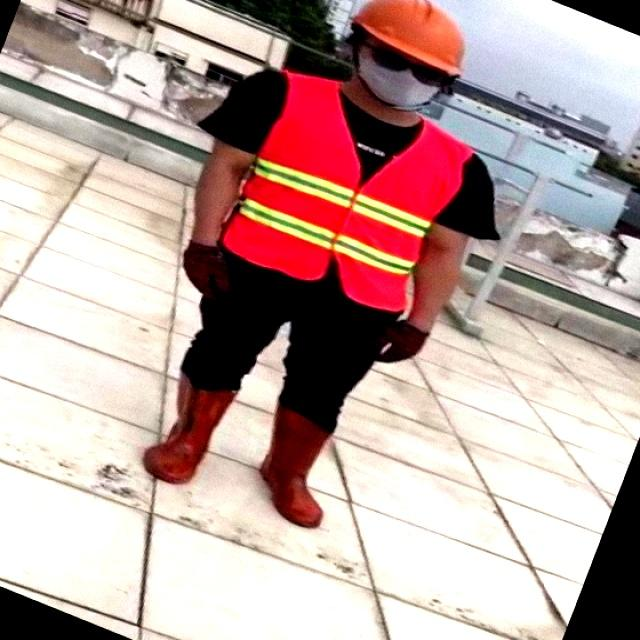helmet: (346, 0, 474, 79)
safety_vest: (224, 75, 478, 340)
